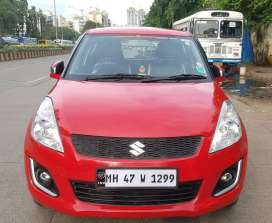nameplate: (105, 167, 177, 186)
